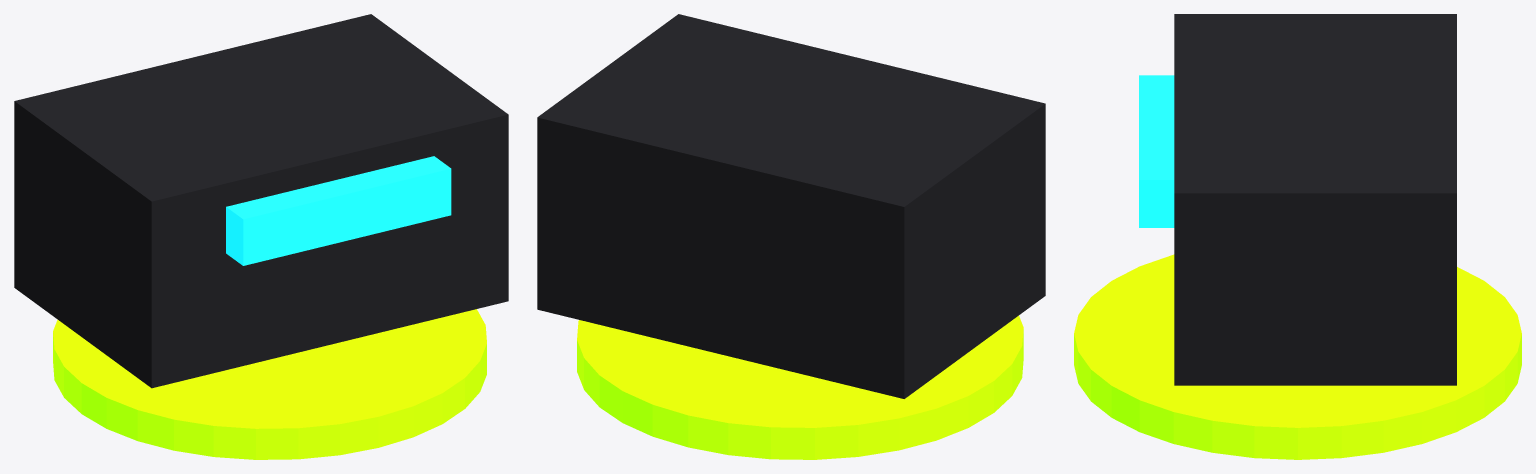
File: tech_hard_drive.glb
3 views of the same model, side by side, from view 1: azimuth 30°, elevation 25°; view 2: azimuth 150°, elevation 25°; view 3: azimuth 270°, elevation 25° (orthographic). The views are drawn at different scales.
Visible parts, largest first — view 1: 08_17_Popular_Tech_Hard_Drive_part_01, 08_17_Popular_Tech_Hard_Drive_ROOT_base, 08_17_Popular_Tech_Hard_Drive_part_02; view 2: 08_17_Popular_Tech_Hard_Drive_part_01, 08_17_Popular_Tech_Hard_Drive_ROOT_base; view 3: 08_17_Popular_Tech_Hard_Drive_part_01, 08_17_Popular_Tech_Hard_Drive_ROOT_base, 08_17_Popular_Tech_Hard_Drive_part_02.
Boxes of the visible parts, x1,y1,x2,y2 form: 08_17_Popular_Tech_Hard_Drive_part_01: (14, 14, 508, 388); 08_17_Popular_Tech_Hard_Drive_ROOT_base: (53, 309, 486, 459); 08_17_Popular_Tech_Hard_Drive_part_02: (226, 156, 451, 265); 08_17_Popular_Tech_Hard_Drive_part_01: (537, 14, 1045, 398); 08_17_Popular_Tech_Hard_Drive_ROOT_base: (577, 315, 1023, 459); 08_17_Popular_Tech_Hard_Drive_part_01: (1174, 14, 1456, 385); 08_17_Popular_Tech_Hard_Drive_ROOT_base: (1074, 254, 1521, 459); 08_17_Popular_Tech_Hard_Drive_part_02: (1139, 75, 1174, 227).
Bounding box in the file's own units: 0.76 × 0.49 × 0.76.
